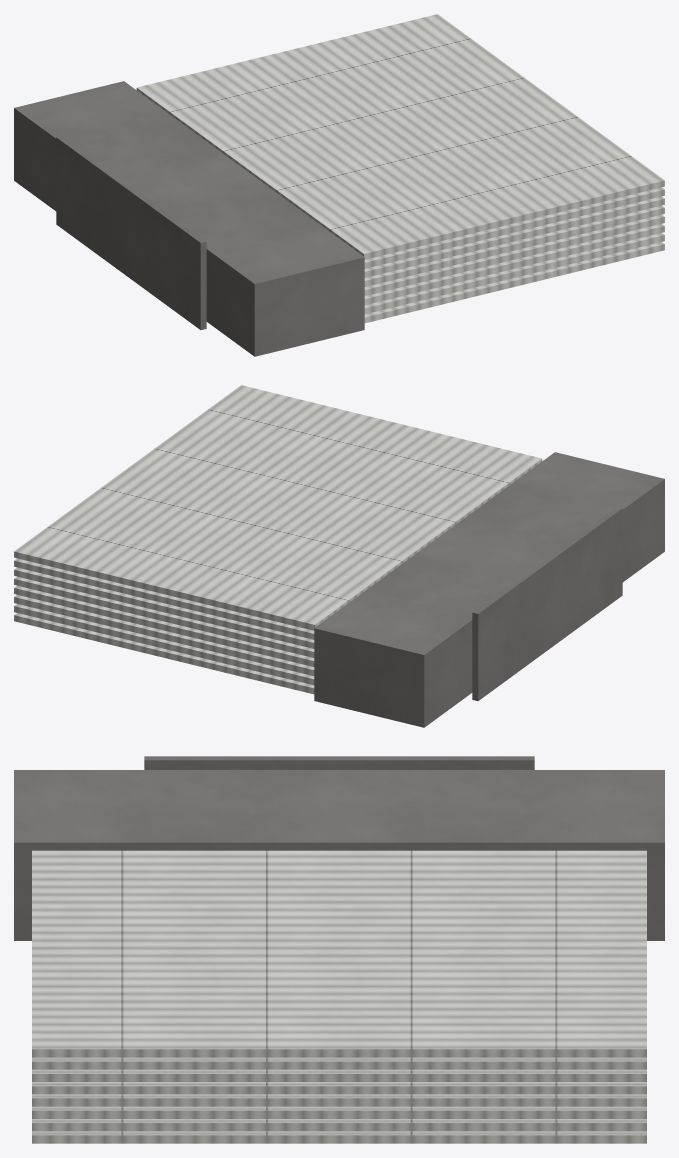
File: power08_radiator_l.glb
3 renders of one model, top to bottom at view 1: azimuth 30°, elevation 25°; view 2: azimuth 150°, elevation 25°; view 3: azimuth 270°, elevation 25°, orthographic. The views are drawn at different scales.
Visible parts, largest first — view 1: panels, base_box; view 2: panels, base_box; view 3: panels, base_box.
Part boxes in pixels (x1,y1,x2,y2): panels: (136,14,664,323); base_box: (14,81,364,356); panels: (14,385,542,694); base_box: (314,452,664,727); panels: (32,850,646,1143); base_box: (14,756,664,940).
Bounding box in the file's own units: 3.65 × 0.72 × 3.6.
2 materials, 2 textured.
